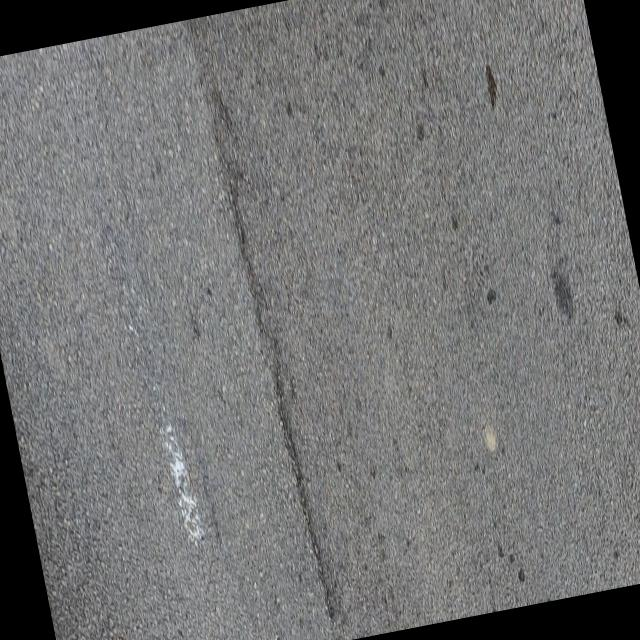Retak-Memanjang: (227, 171, 337, 630)
